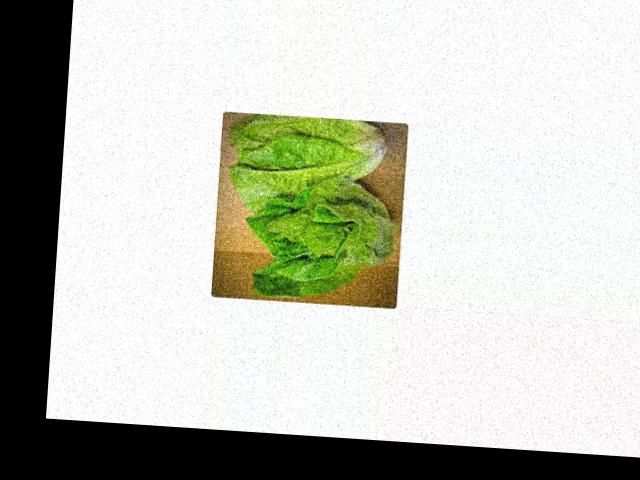lettuce: (232, 118, 385, 280)
